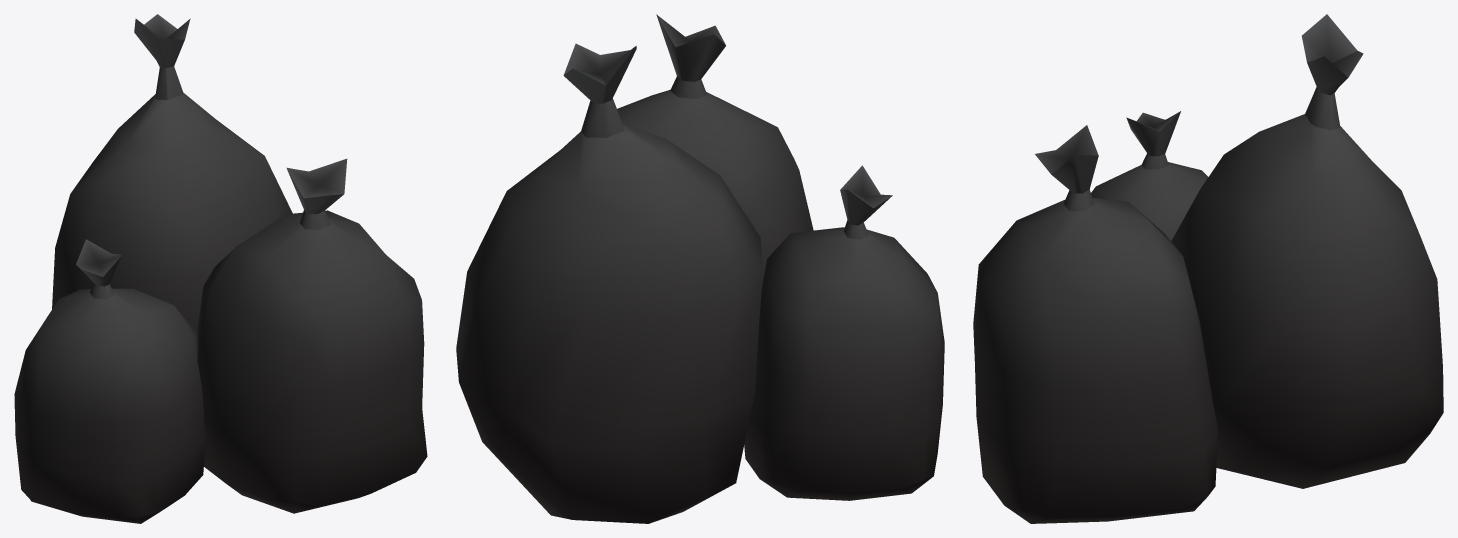
The model's file is Trash_bag_004.fbx.
3 renders of one model, left to right at view 1: azimuth 30°, elevation 25°; view 2: azimuth 150°, elevation 25°; view 3: azimuth 270°, elevation 25°, orthographic. The views are drawn at different scales.
Parts seen in each view (by area): view 1: Trash_bag_004; view 2: Trash_bag_004; view 3: Trash_bag_004.
Boxes of the visible parts, x1=… form: Trash_bag_004: x1=14, y1=14, x2=427, y2=523; Trash_bag_004: x1=456, y1=14, x2=944, y2=523; Trash_bag_004: x1=973, y1=14, x2=1443, y2=523.
Size of the model in its own units: 48.15 by 50.98 by 52.19.
